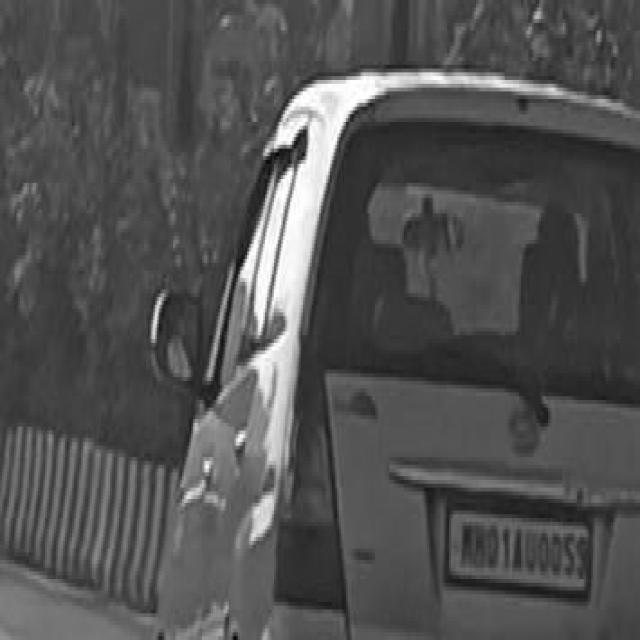license-plate: (445, 507, 595, 602)
